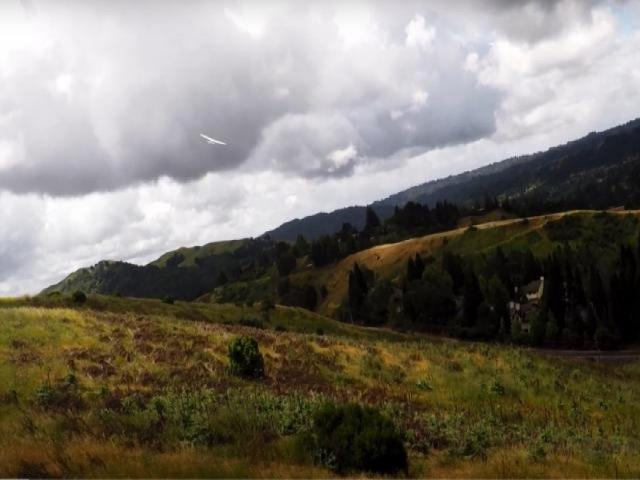iha: (198, 133, 225, 146)
